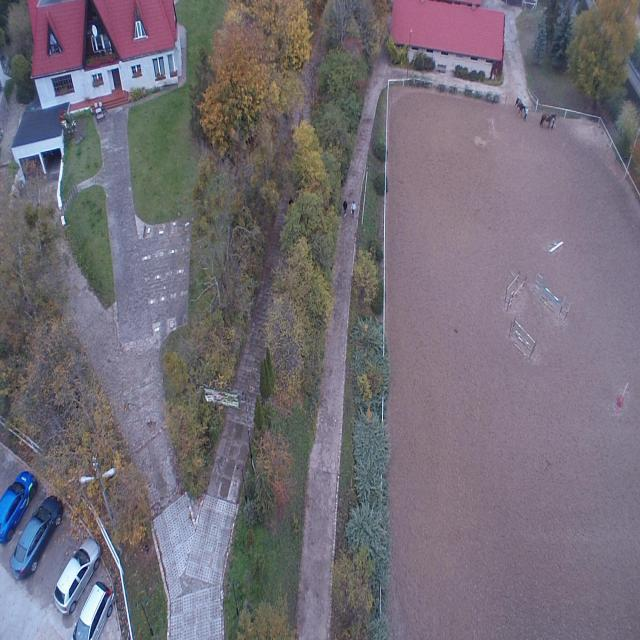p3rson: (351, 200, 356, 218), (343, 201, 347, 217), (552, 115, 556, 129), (524, 106, 528, 120)
